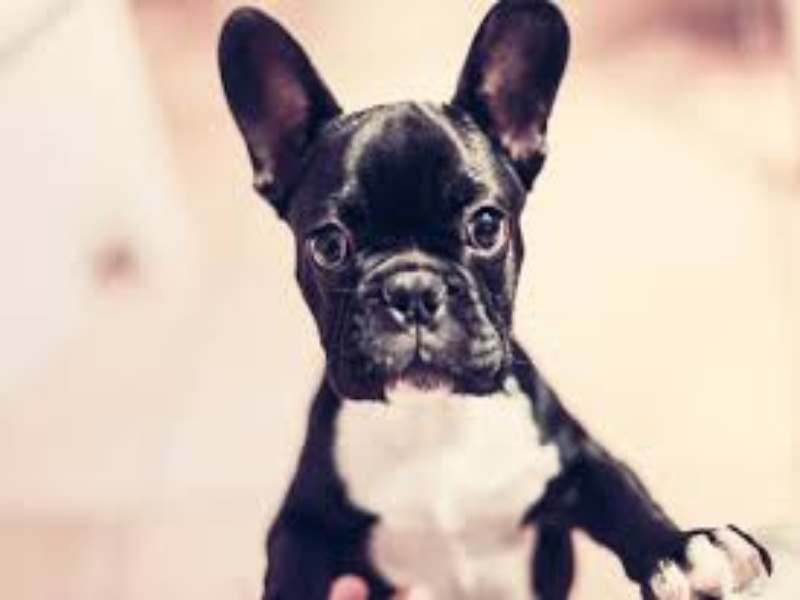dog: (211, 4, 741, 600)
